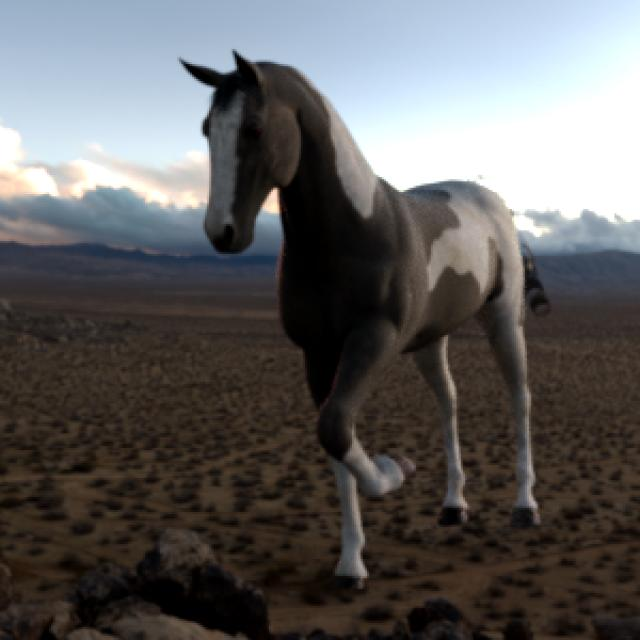horse: (183, 52, 549, 588)
